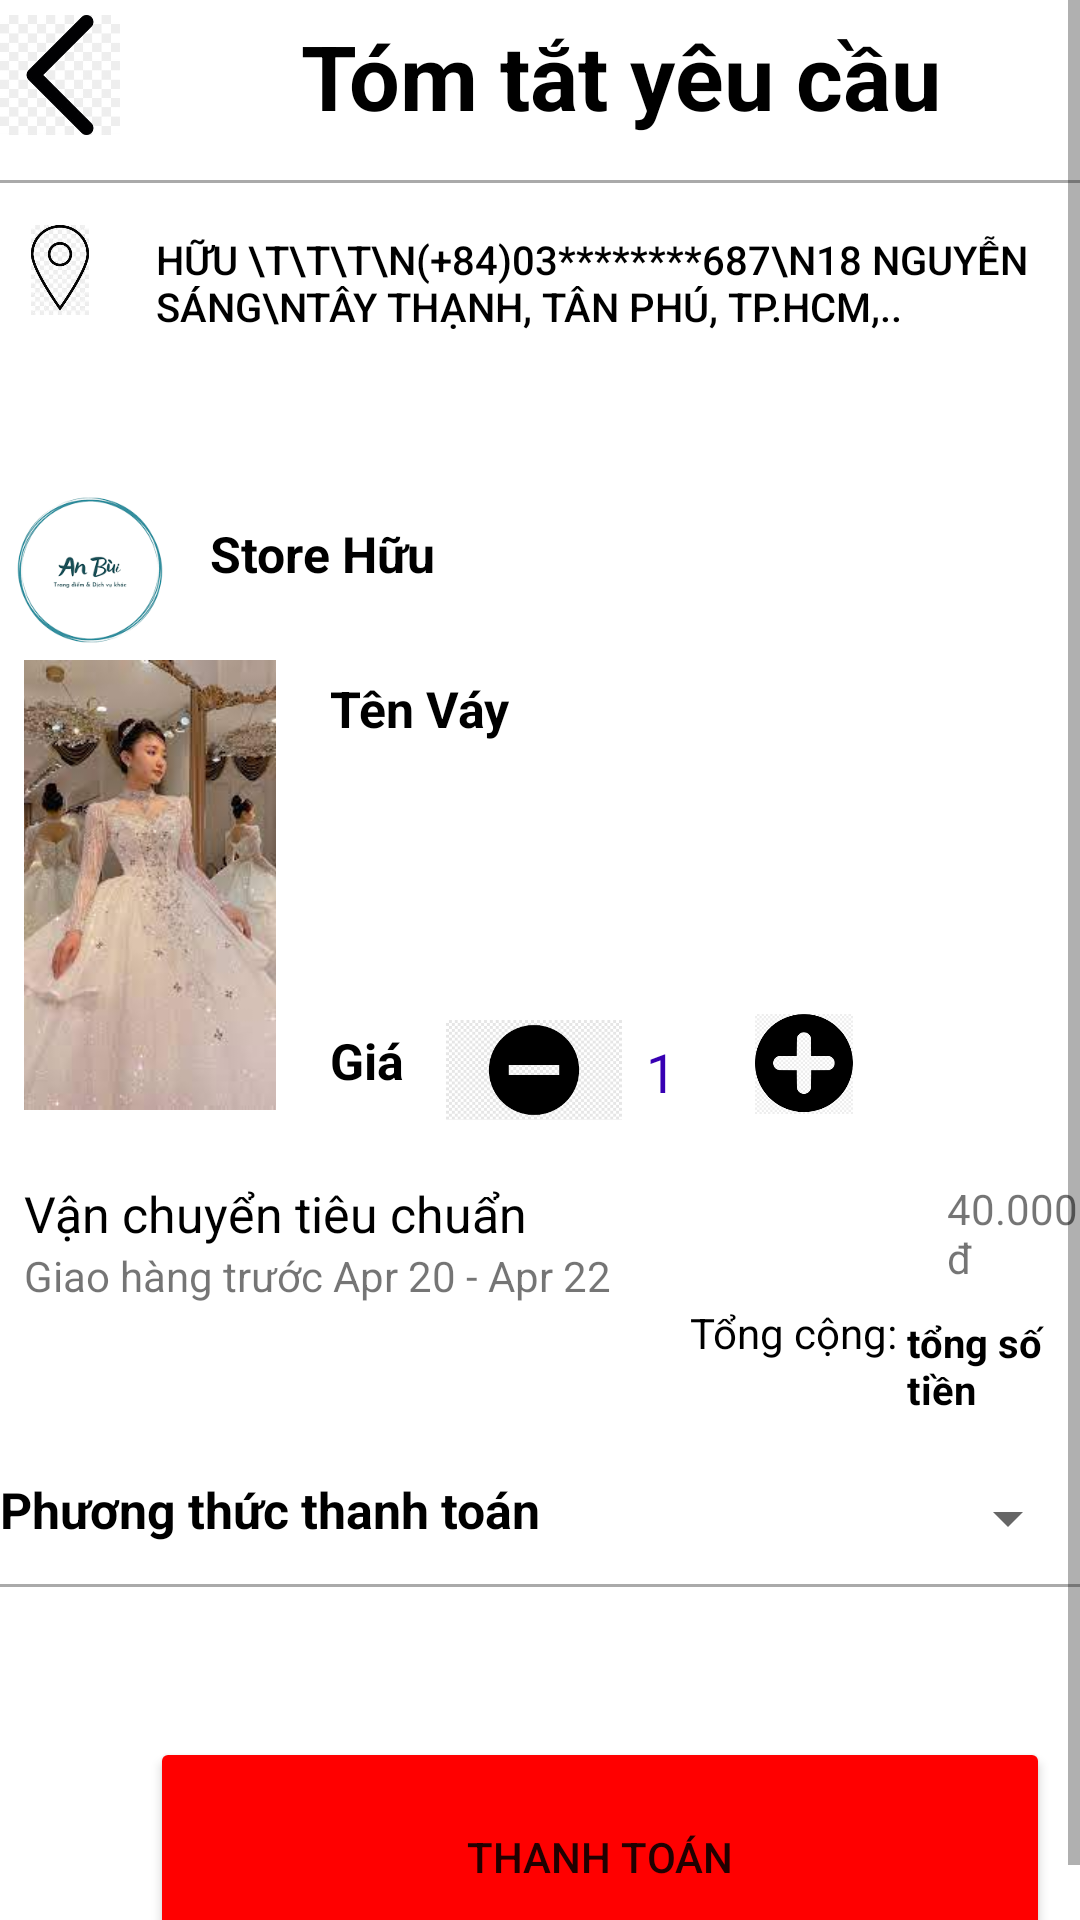

Named icons in this screenshot (1080 x 1920) and their bounding boxes, (x1, y1, x2, y2):
avata shop: (17, 497, 163, 643)
cong: (755, 1014, 853, 1112)
diachi: (31, 225, 89, 311)
tru: (446, 1020, 622, 1120)
